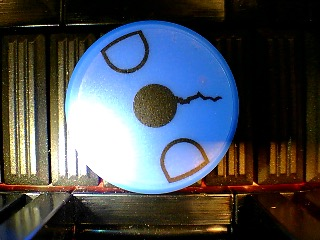CRACK: (64, 19, 239, 195)
